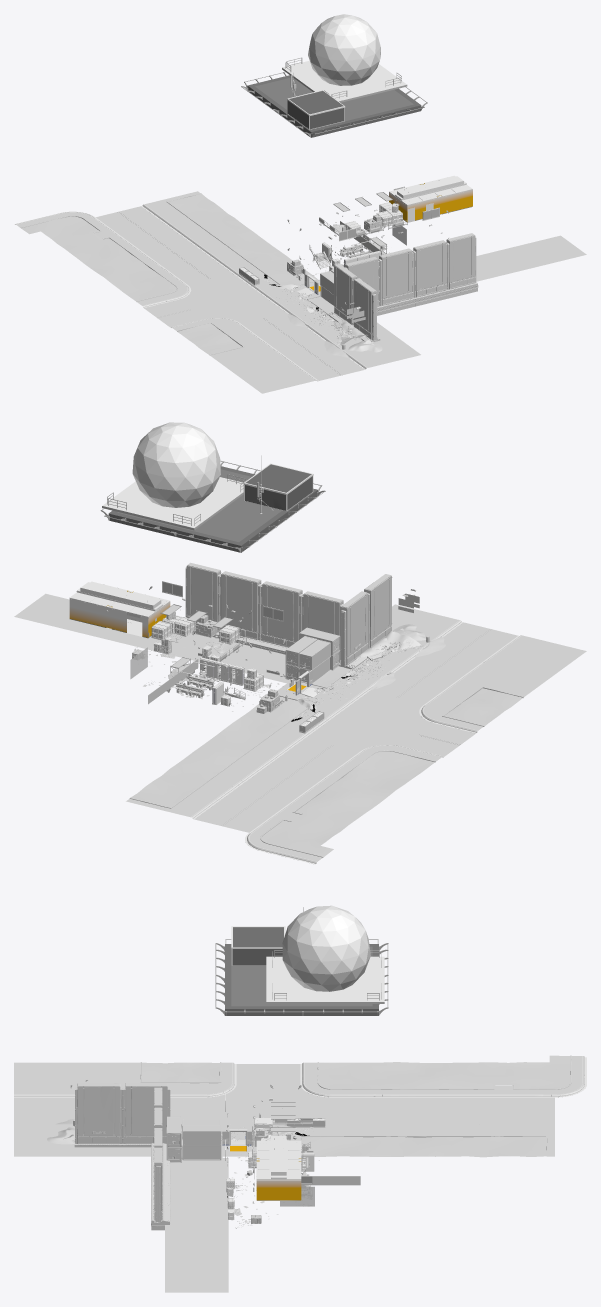
Rendered from cell_174_115.fbx.
The picture shows the model from 3 angles, top to bottom: view 1: azimuth 30°, elevation 25°; view 2: azimuth 150°, elevation 25°; view 3: azimuth 270°, elevation 25°; orthographic projection. The views are drawn at different scales.
Visible parts, largest first — view 1: SM_I_RoadFacility_Ground_A_04.mo, SM_H_Building_FutureTech_HLight_01_ExterWall_06.mo.002, SM_H_Building_FutureTech_AssemblyArea_InterWall_05.mo, SM_H_Fence_Metal_1024x768_01.mo.286, SM_H_Fence_Metal_1024x768_01.mo.287, SM_H_Fence_Metal_1024x768_01.mo.289, SM_H_Fence_Metal_1024x768_01.mo.275, SM_H_Fence_Metal_1024x768_01.mo.274, SM_H_Fence_Metal_1024x768_01.mo.285; view 2: SM_I_RoadFacility_Ground_A_04.mo, SM_H_Building_FutureTech_HLight_01_ExterWall_06.mo.002, SM_H_Building_FutureTech_AssemblyArea_InterWall_05.mo, SM_H_Fence_Metal_1024x768_01.mo.287, SM_H_Fence_Metal_1024x768_01.mo.286, SM_H_Fence_Metal_1024x768_01.mo.275, SM_H_Fence_Metal_1024x768_01.mo.289, SM_H_Fence_Metal_1024x768_01.mo.285, SM_H_Fence_Metal_1024x768_01.mo.274, SM_H_Industrial_Container_02.mo.242; view 3: SM_I_RoadFacility_Ground_A_04.mo, SM_H_Building_FutureTech_HLight_01_ExterWall_06.mo.002, SM_H_Building_FutureTech_AssemblyArea_InterWall_05.mo, SM_H_Fence_Metal_1024x768_01.mo.275, SM_H_Fence_Metal_1024x768_01.mo.274, SM_H_Industrial_Container_02.mo.244, SM_H_Fence_Metal_1024x768_01J.mo.018, SM_H_Fence_Metal_1024x768_01.mo.289, SM_H_Industrial_Container_02.mo.245, SM_Emissive_Plane_01.mo.353.
Part boxes in pixels (x1,y1,x2,y2): SM_I_RoadFacility_Ground_A_04.mo: (14,191,586,393); SM_H_Building_FutureTech_HLight_01_ExterWall_06.mo.002: (241,14,427,137); SM_H_Building_FutureTech_AssemblyArea_InterWall_05.mo: (389,175,472,222); SM_H_Fence_Metal_1024x768_01.mo.286: (378,248,413,305); SM_H_Fence_Metal_1024x768_01.mo.287: (412,240,447,297); SM_H_Fence_Metal_1024x768_01.mo.289: (446,233,476,289); SM_H_Fence_Metal_1024x768_01.mo.275: (334,264,357,325); SM_H_Fence_Metal_1024x768_01.mo.274: (353,278,376,340); SM_H_Fence_Metal_1024x768_01.mo.285: (345,257,379,306); SM_I_RoadFacility_Ground_A_04.mo: (14,593,586,864); SM_H_Building_FutureTech_HLight_01_ExterWall_06.mo.002: (100,422,325,552); SM_H_Building_FutureTech_AssemblyArea_InterWall_05.mo: (69,581,170,638); SM_H_Fence_Metal_1024x768_01.mo.287: (220,571,262,640); SM_H_Fence_Metal_1024x768_01.mo.286: (261,581,303,647); SM_H_Fence_Metal_1024x768_01.mo.275: (340,591,368,666); SM_H_Fence_Metal_1024x768_01.mo.289: (185,562,221,630); SM_H_Fence_Metal_1024x768_01.mo.285: (302,591,343,659); SM_H_Fence_Metal_1024x768_01.mo.274: (365,574,392,648); SM_H_Industrial_Container_02.mo.242: (299,639,330,670); SM_I_RoadFacility_Ground_A_04.mo: (14,1055,586,1292); SM_H_Building_FutureTech_HLight_01_ExterWall_06.mo.002: (215,905,388,1015); SM_H_Building_FutureTech_AssemblyArea_InterWall_05.mo: (256,1136,301,1200); SM_H_Fence_Metal_1024x768_01.mo.275: (122,1083,170,1144); SM_H_Fence_Metal_1024x768_01.mo.274: (75,1083,122,1144); SM_H_Industrial_Container_02.mo.244: (183,1125,221,1145); SM_H_Fence_Metal_1024x768_01J.mo.018: (100,1083,122,1122); SM_H_Fence_Metal_1024x768_01.mo.289: (154,1147,162,1221); SM_H_Industrial_Container_02.mo.245: (182,1139,221,1160); SM_Emissive_Plane_01.mo.353: (301,1176,360,1185).
Bounding box in the file's own units: 89.63 × 50.76 × 92.25.
